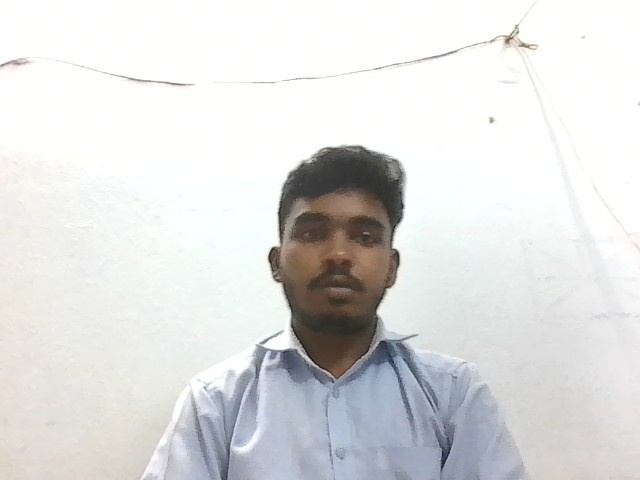real: (271, 146, 405, 336)
